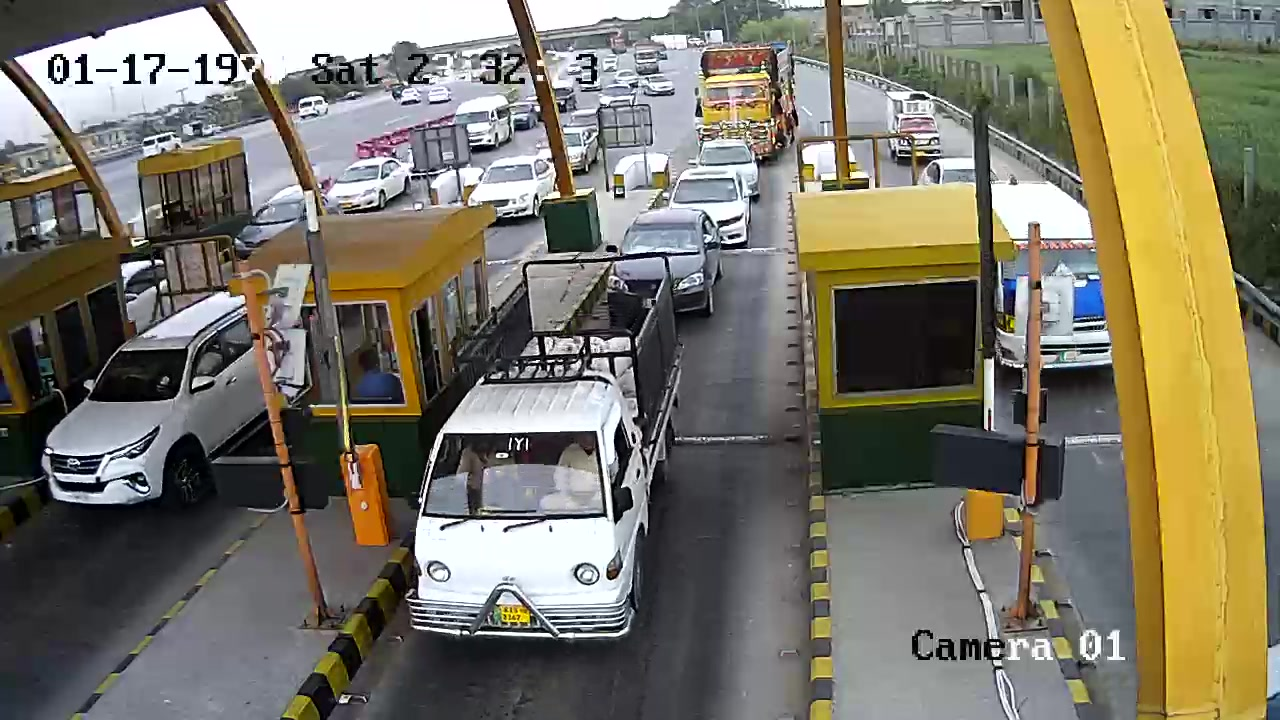F2: (405, 245, 697, 662)
